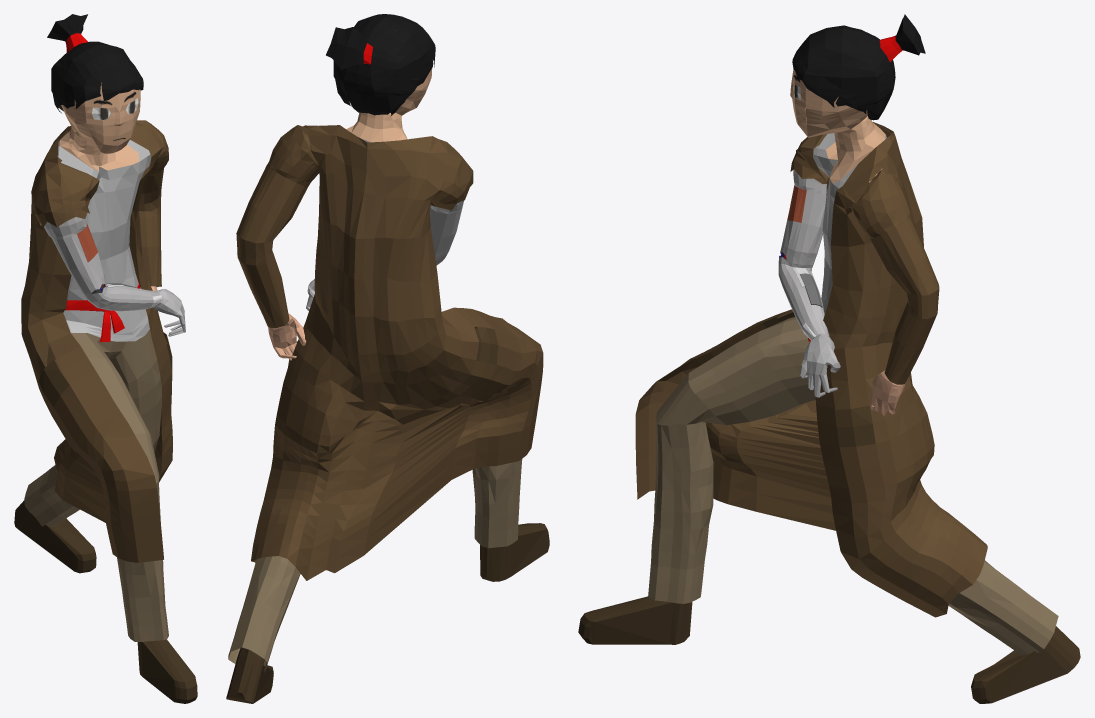
The model's file is One_RB_000023.obj.
3 views of the same model, side by side, from view 1: azimuth 30°, elevation 25°; view 2: azimuth 150°, elevation 25°; view 3: azimuth 270°, elevation 25° (orthographic). The views are drawn at different scales.
Parts seen in each view (by area): view 1: Hair_Cube.004; view 2: Hair_Cube.004; view 3: Hair_Cube.004.
Part boxes in pixels (x1=…): Hair_Cube.004: x1=14, y1=14, x2=197, y2=703; Hair_Cube.004: x1=226, y1=14, x2=549, y2=703; Hair_Cube.004: x1=578, y1=14, x2=1080, y2=703.
Bounding box in the file's own units: 1.09 × 3.57 × 2.47.
